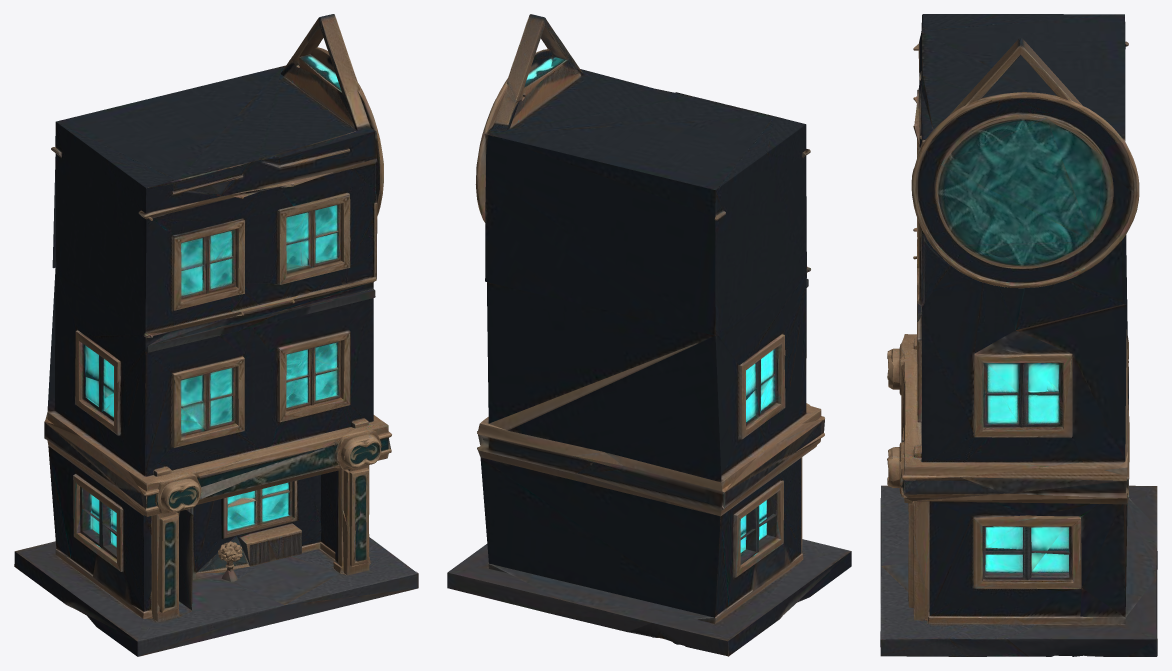
The model's file is bld-arcade.glb.
3 views of the same model, side by side, from view 1: azimuth 30°, elevation 25°; view 2: azimuth 150°, elevation 25°; view 3: azimuth 270°, elevation 25° (orthographic). The views are drawn at different scales.
Size of the model in its own units: 1.05 by 1.9 by 0.7968.
Materials: 1 (1 with a texture image).
